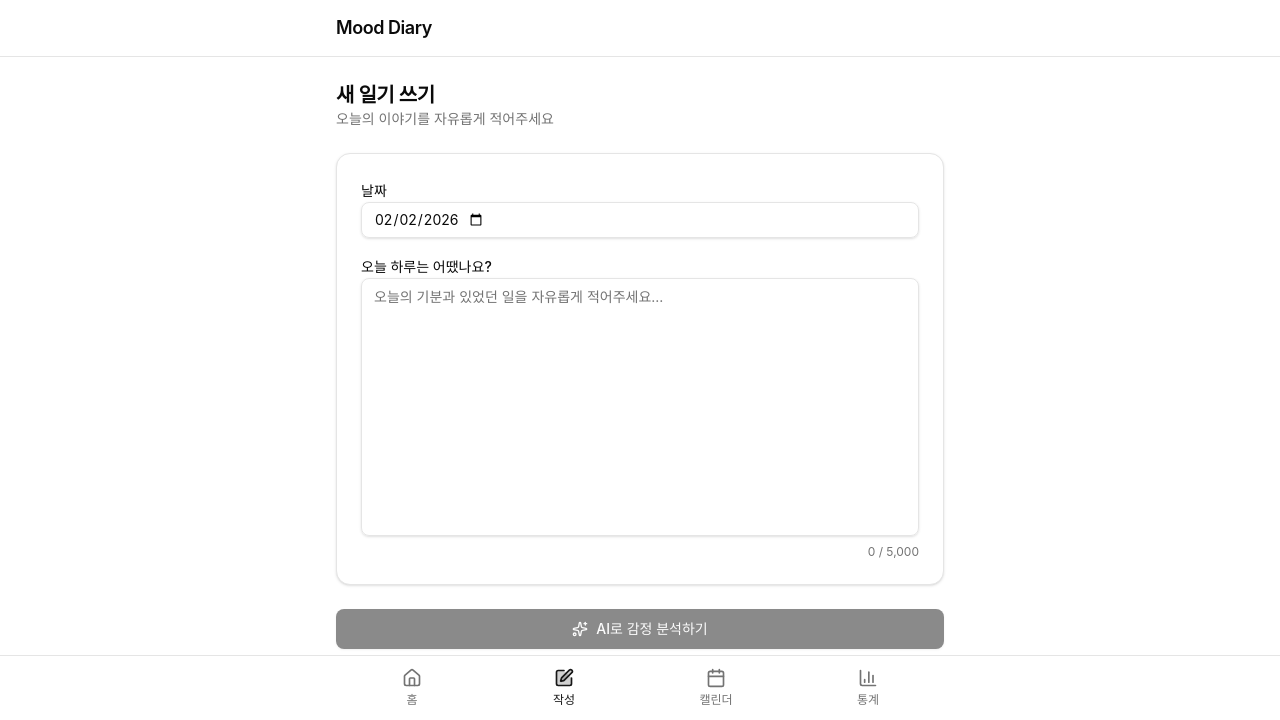
WritePage (TC-001, TC-003) › TC-003: AI 감정 분류 › TC-003-1: 분류 트리거 › AI로 감정 분석하기 버튼 클릭 시 분류가 시작된다
Type "오늘은 행복한 하루였습니다." into the text box at (640, 407), box [361,278,919,536]
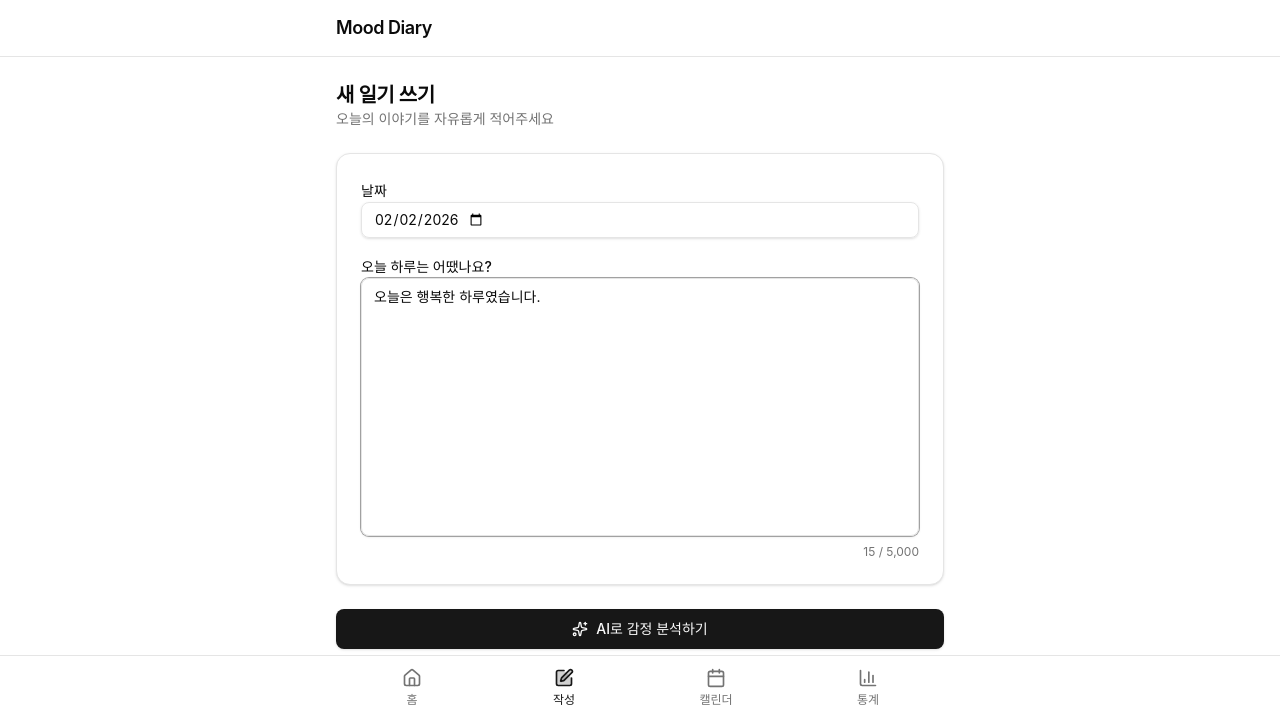
Expected: the button "AI로 감정 분석하기" is enabled
Click the button "AI로 감정 분석하기" at (640, 629), box [336,609,944,649]
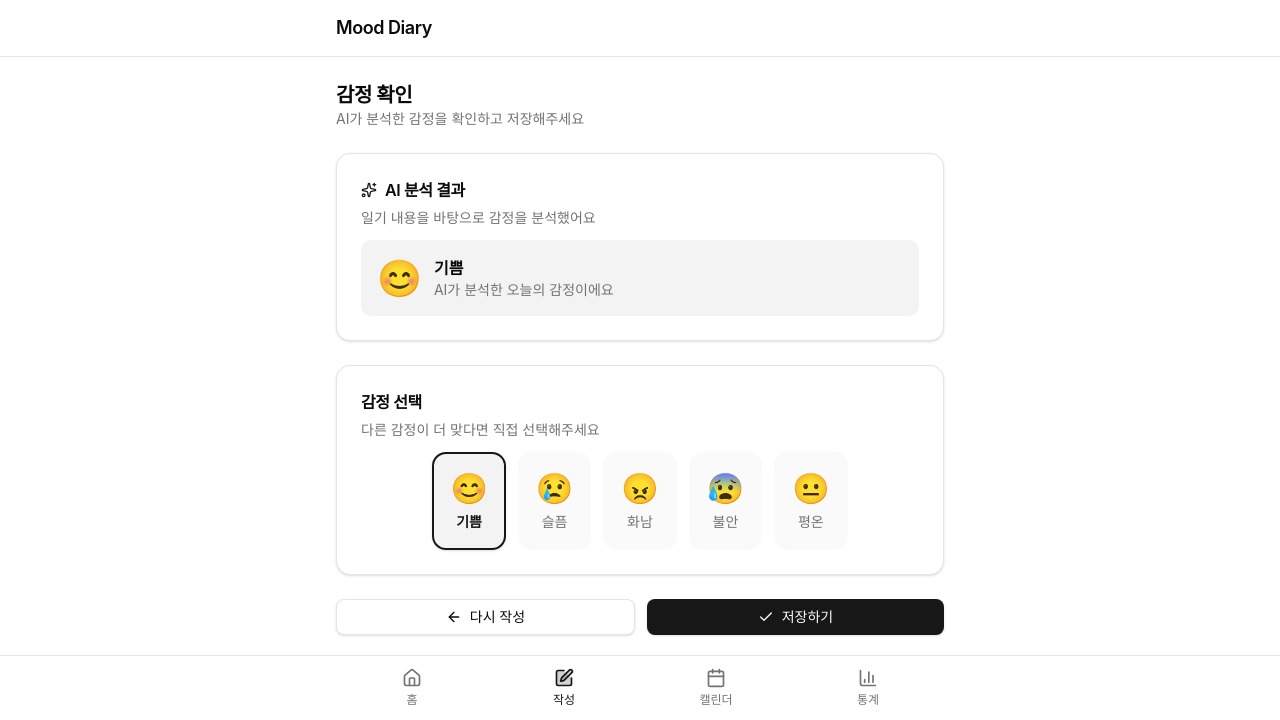
Expected: the heading "감정 확인" is shown, [336,83,412,107]
